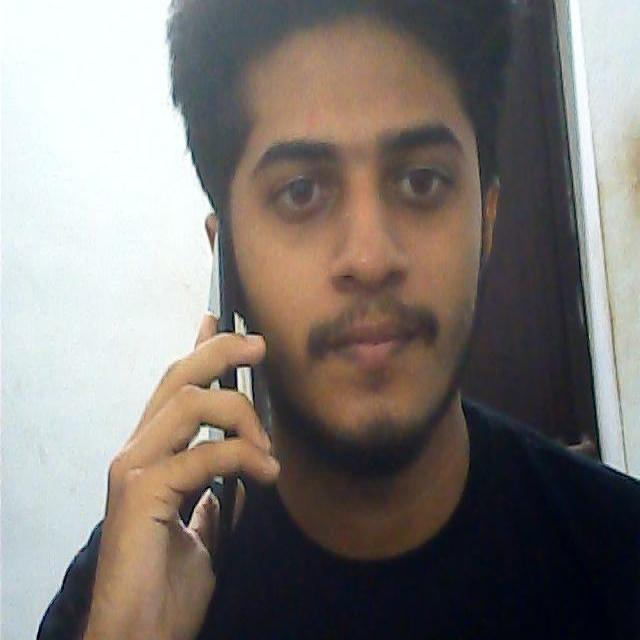phone: (193, 223, 249, 543)
